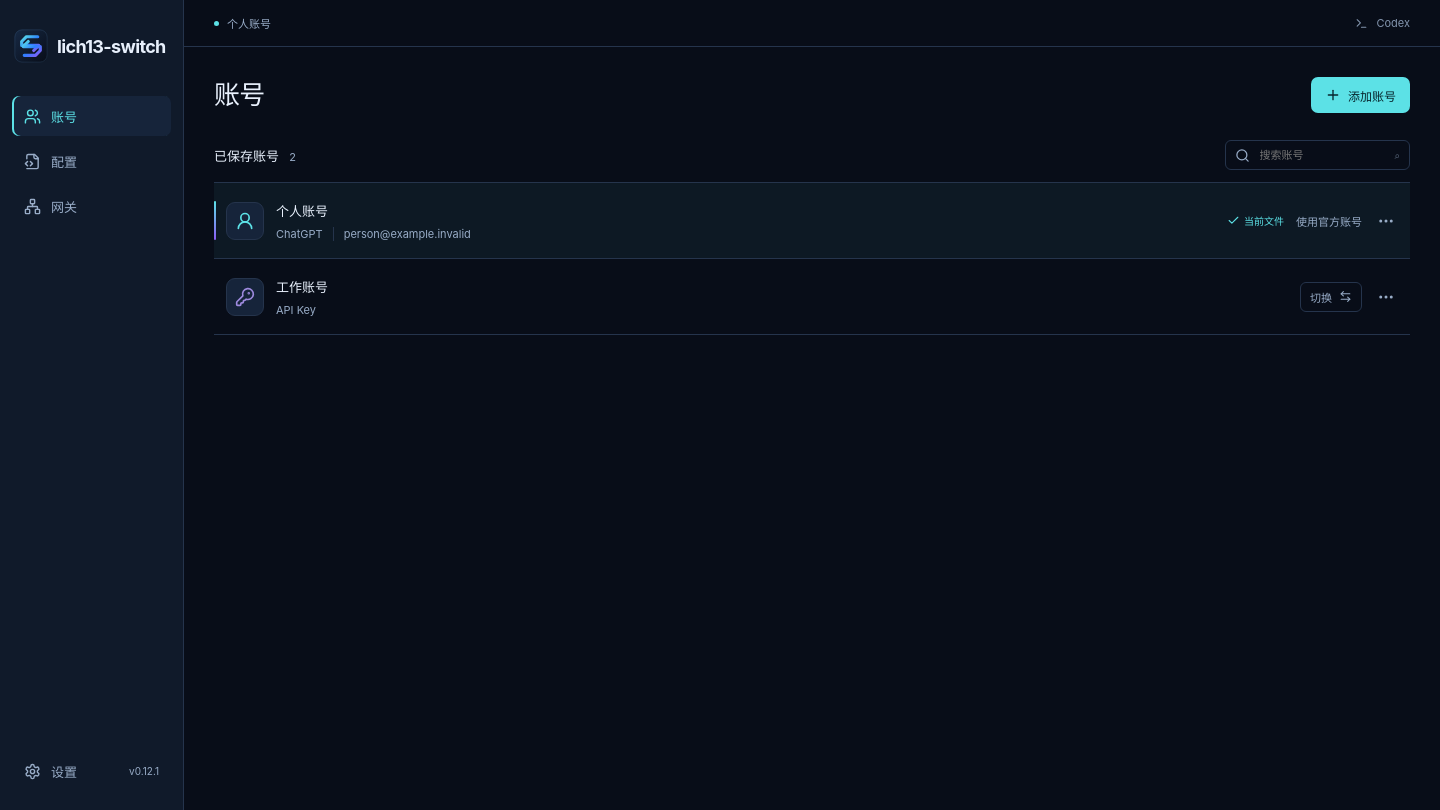
Test case: user workflows › switches through the native command without saving config
The image size is (1440, 810).
Click the button with aria-label "切换到 工作账号" at (1331, 296), box [1300,282,1362,312]
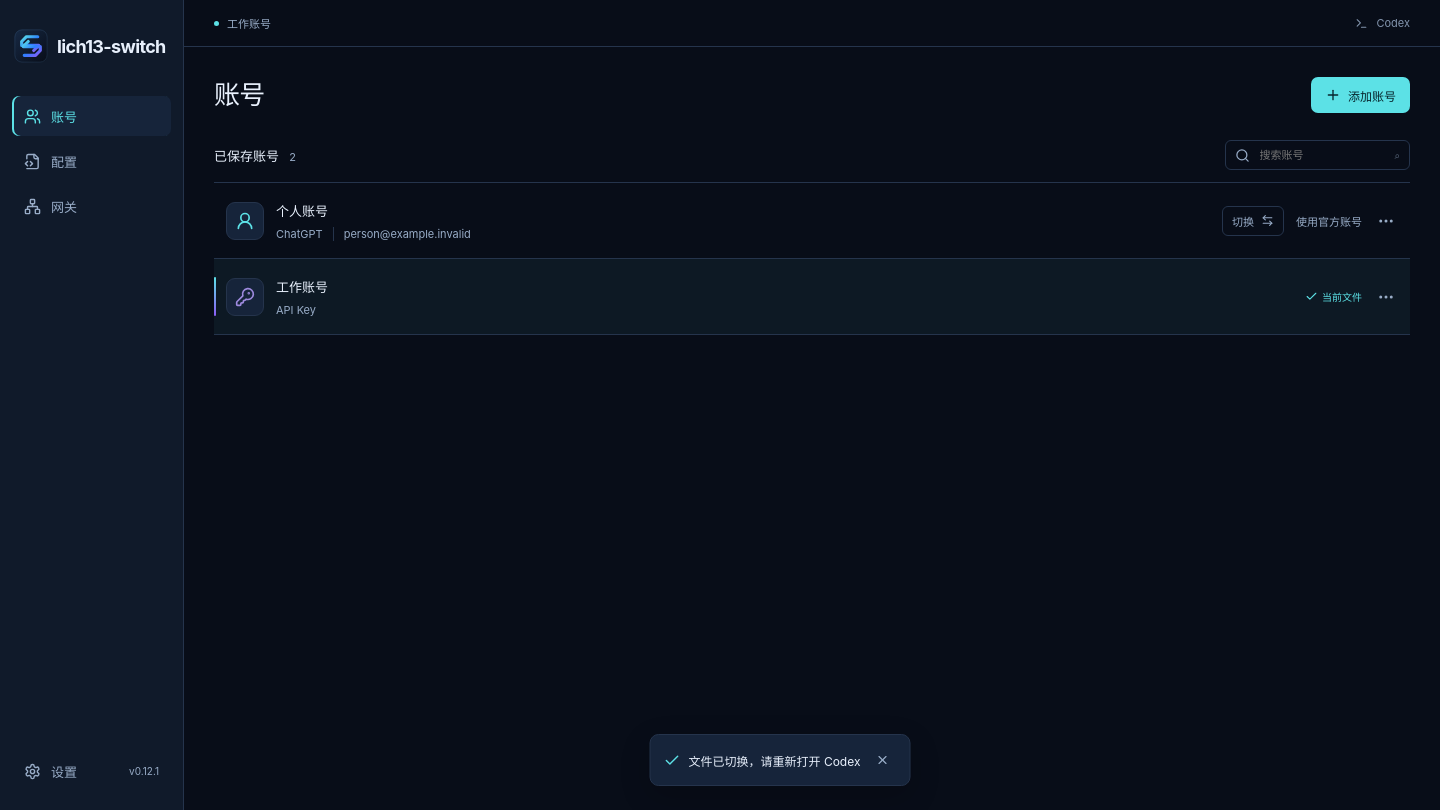
Check: the message shows "文件已切换", box [688,754,860,768]
